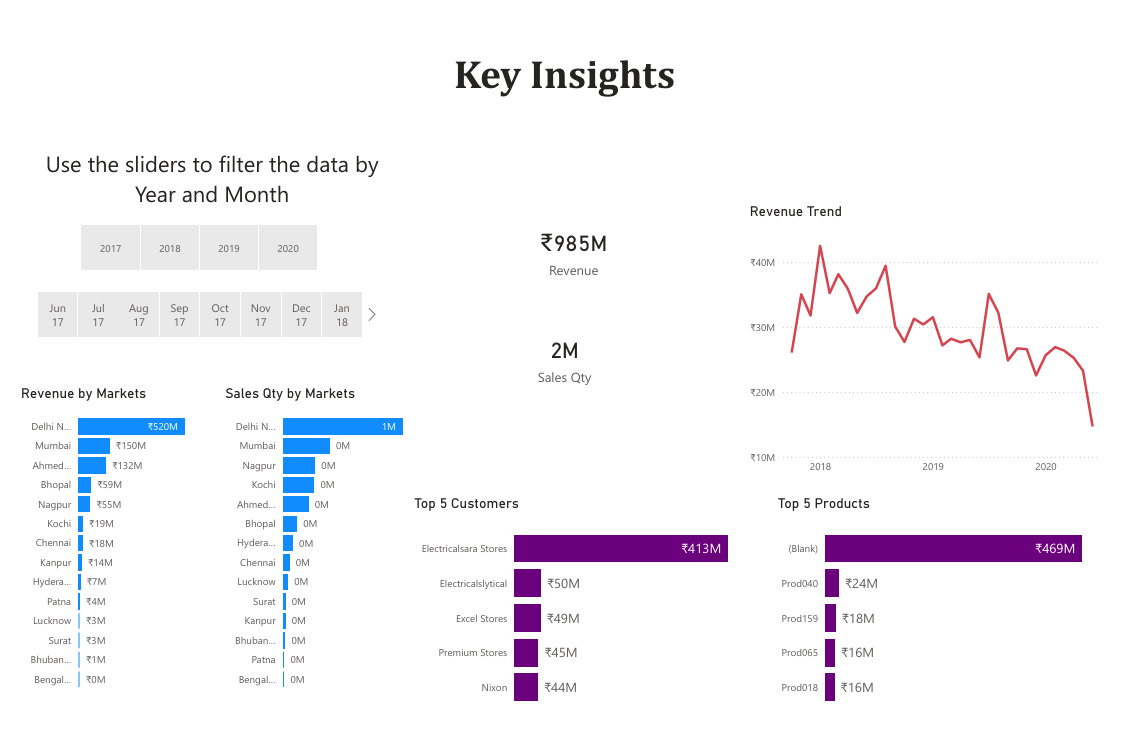

This screenshot's page, from the dashboard's own definition file:
{"tool":"powerbi","page":{"name":"Key Insights","canvas":[1350,850],"ordinal":1},"visuals":[{"type":"card","fields":{"Values":["BaseMeasures (2).Revenue"]},"box":[551.3,237.6,248.3,86.8],"z":0},{"type":"card","fields":{"Values":["BaseMeasures (2).Sales Qty"]},"box":[551.3,357.7,226.9,105.4],"z":1000},{"type":"barChart","title":"Revenue by Markets","fields":{"Y":["BaseMeasures (2).Revenue"],"Category":["sales markets.markets_name"]},"box":[0,443.2,248.3,381.8],"z":2000},{"type":"barChart","title":"Sales Qty by Markets","fields":{"Y":["BaseMeasures (2).Sales Qty"],"Category":["sales markets.markets_name"]},"box":[248.3,443.2,246.9,381.8],"z":3000},{"type":"slicer","fields":{"Values":["sales date.year"]},"box":[53.4,242.9,335,66.7],"z":4000},{"type":"slicer","fields":{"Values":["sales date.cy_date"]},"box":[0,324.4,441.8,66.7],"z":5000},{"type":"barChart","title":"Top 5 Customers","fields":{"Y":["BaseMeasures (2).Revenue"],"Category":["sales customers.custmer_name"]},"box":[476.5,576.6,447.2,273.6],"z":6000},{"type":"barChart","title":"Top 5 Products","fields":{"Y":["BaseMeasures (2).Revenue"],"Category":["sales products.product_code"]},"box":[918.3,576.6,431.1,273.6],"z":7000},{"type":"lineChart","title":"Revenue Trend","fields":{"Y":["BaseMeasures (2).Revenue"],"Category":["sales date.cy_date"]},"box":[883.6,221.6,439.2,339],"z":8000},{"type":"textbox","box":[427.1,32,473.9,88.1],"z":9000},{"type":"textbox","box":[16,150.8,441.8,86.8],"z":10000}]}

Visuals, with their boxes in screenshot pixels (x1, y1, x2, y2), scaled from the page's 1350x850 canvas onto the 1142x733 screenshot:
card - BaseMeasures (2).Revenue: 466/205/676/280
card - BaseMeasures (2).Sales Qty: 466/308/658/399
"Revenue by Markets" barChart: 0/382/210/711
"Sales Qty by Markets" barChart: 210/382/419/711
slicer - sales date.year: 45/209/329/267
slicer - sales date.cy_date: 0/280/374/337
"Top 5 Customers" barChart: 403/497/781/732
"Top 5 Products" barChart: 777/497/1141/732
"Revenue Trend" lineChart: 747/191/1119/483
textbox: 361/28/762/104
textbox: 14/130/387/205
